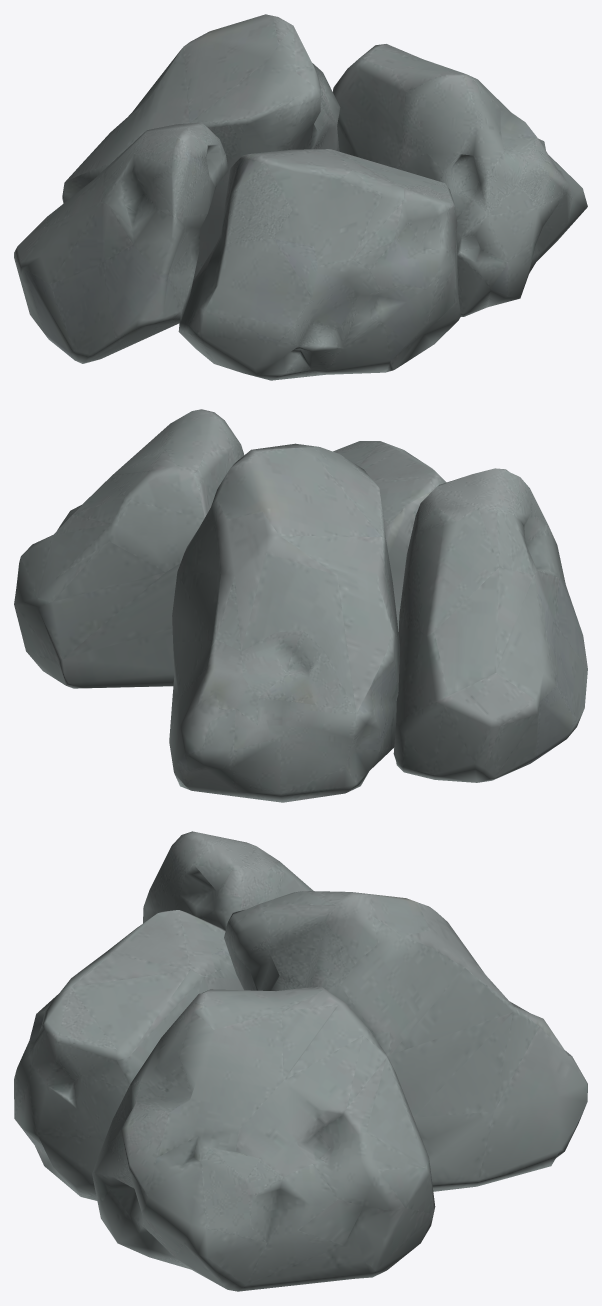
File: coast-rock.glb
3 renders of one model, top to bottom at view 1: azimuth 30°, elevation 25°; view 2: azimuth 150°, elevation 25°; view 3: azimuth 270°, elevation 25°, orthographic. The views are drawn at different scales.
Size of the model in its own units: 0.9614 by 0.4531 by 0.833.
1 material, 1 textured.
